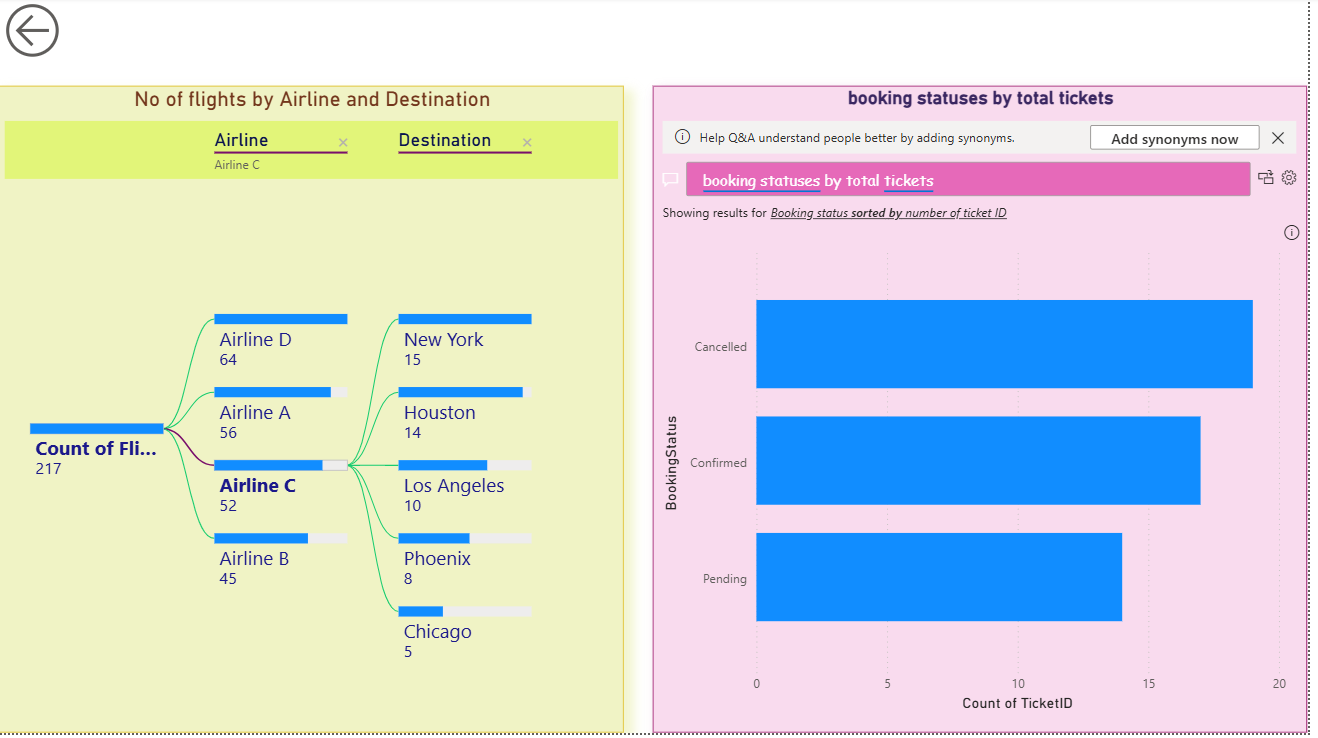

What the dashboard file says about the page in this screenshot:
{"tool":"powerbi","page":{"name":"Task_8","canvas":[1280,720],"ordinal":3},"visuals":[{"type":"decompositionTreeVisual","title":"No of flights by Airline and Destination","fields":{"ExplainBy":["Fight_Information - flight_information.Airline","Fight_Information - flight_information.Destination"],"Analyze":["CountNonNull(Fight_Information - flight_information.FlightID)"]},"box":[0,86.8,611.6,632.9],"z":0},{"type":"qnaVisual","title":"booking statuses by total tickets","box":[640,86.8,640,632.9],"z":1000},{"type":"actionButton","box":[0,0,129.4,65.4],"z":2000}]}

Visuals, with their boxes in screenshot pixels (x1, y1, x2, y2), scaled from the page's 1280x720 canvas onto the 1318x738 screenshot:
"No of flights by Airline and Destination" decompositionTreeVisual: left=0, top=89, right=630, bottom=737
"booking statuses by total tickets" qnaVisual: left=659, top=89, right=1317, bottom=737
actionButton: left=0, top=0, right=133, bottom=67
